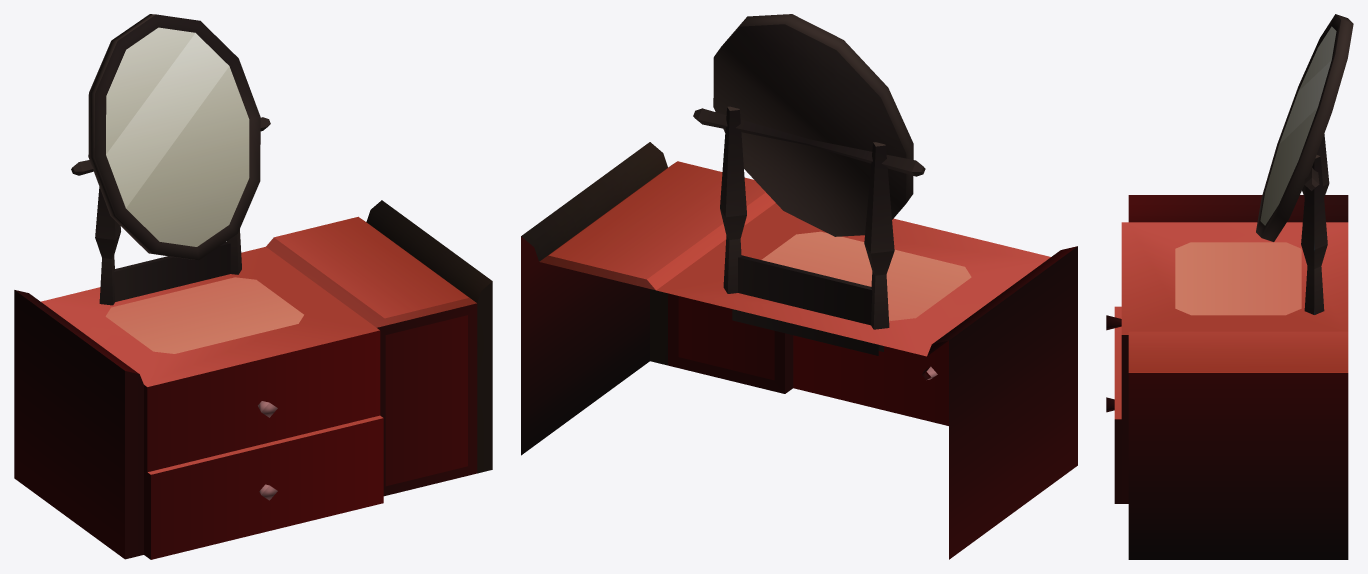
The model's file is SK_Mirror_001.FBX.
The picture shows the model from 3 angles, left to right: view 1: azimuth 30°, elevation 25°; view 2: azimuth 150°, elevation 25°; view 3: azimuth 270°, elevation 25°; orthographic projection. The views are drawn at different scales.
Parts seen in each view (by area): view 1: SK_Mirror_001; view 2: SK_Mirror_001; view 3: SK_Mirror_001.
Boxes of the visible parts, <box> form: SK_Mirror_001: <box>14,14,492,559</box>; SK_Mirror_001: <box>521,14,1077,559</box>; SK_Mirror_001: <box>1106,14,1353,559</box>.
Bounding box in the file's own units: 57.12 × 64.25 × 33.55.
Materials: 1 (1 with a texture image).
